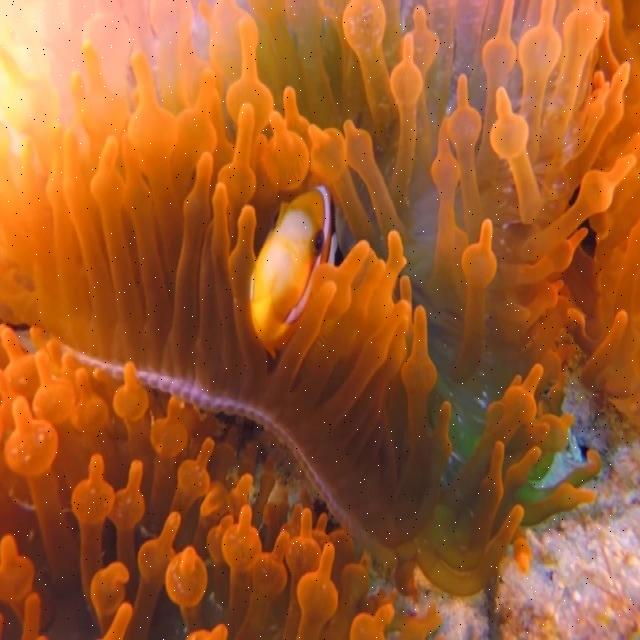fish: (249, 180, 343, 352)
reefs: (0, 0, 601, 596), (0, 323, 442, 638), (431, 0, 639, 403)
